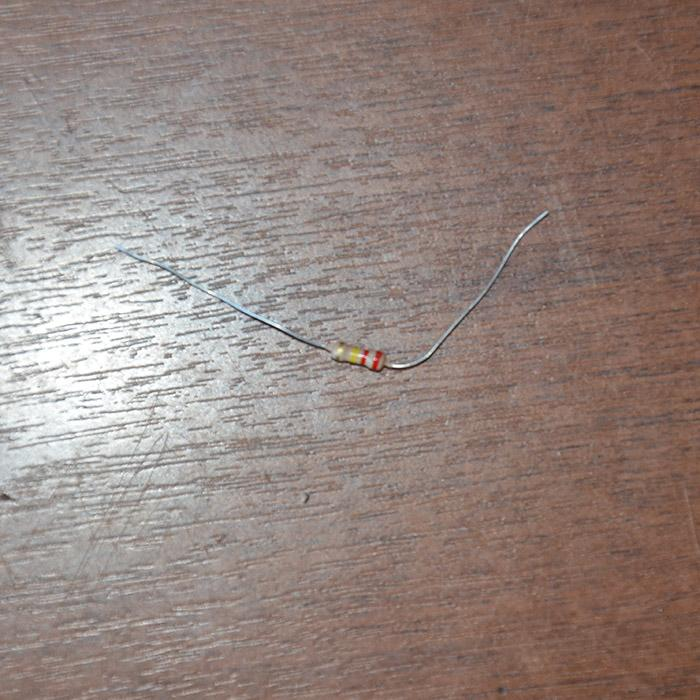resistor: (329, 340, 385, 372)
